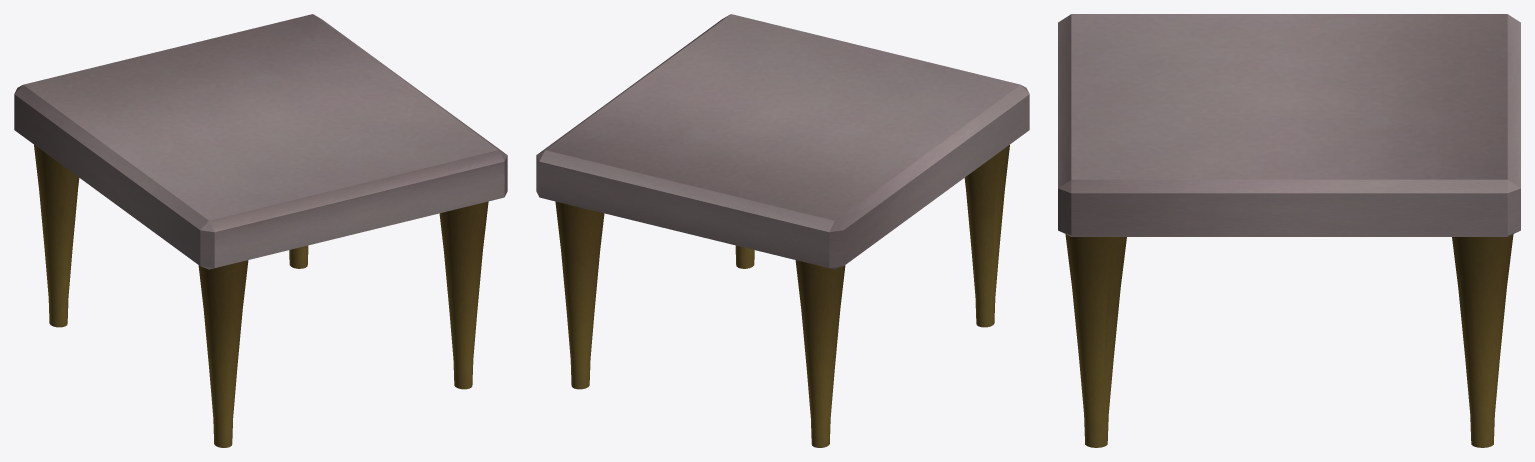
The model's file is SM_square_table.fbx.
3 views of the same model, side by side, from view 1: azimuth 30°, elevation 25°; view 2: azimuth 150°, elevation 25°; view 3: azimuth 270°, elevation 25° (orthographic). The views are drawn at different scales.
Parts seen in each view (by area): view 1: Sm_square_table; view 2: Sm_square_table; view 3: Sm_square_table.
Boxes of the visible parts, <box> form: Sm_square_table: <box>14,14,507,447</box>; Sm_square_table: <box>536,14,1029,447</box>; Sm_square_table: <box>1058,14,1520,447</box>.
Size of the model in its own units: 1.23 by 0.905 by 1.37.
